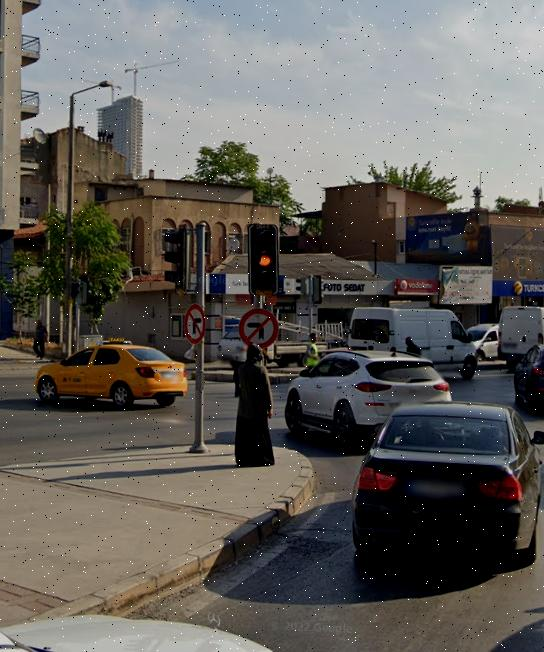leftturnsareforbidden: (241, 310, 277, 348)
rightturnsareforbidden: (186, 304, 204, 343)
yellowlight: (252, 227, 275, 290)
